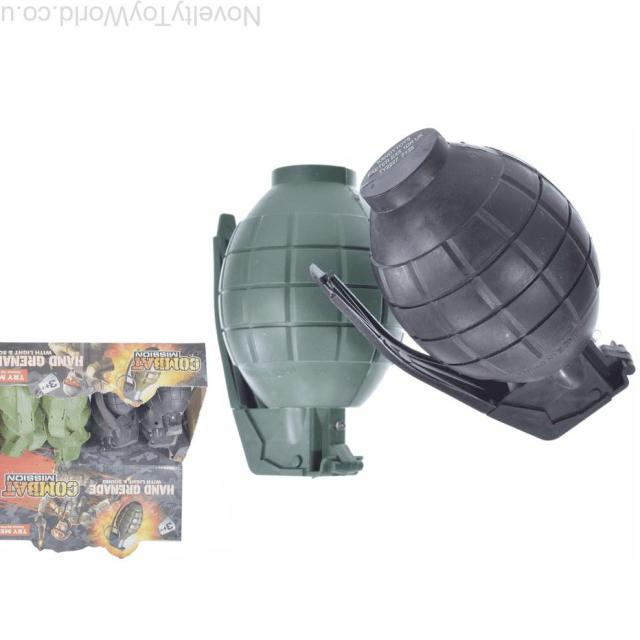grenade: (299, 132, 638, 443), (212, 150, 389, 478), (106, 501, 146, 560)
